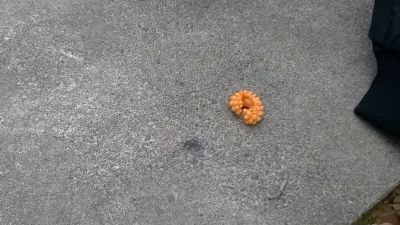eggs: (229, 91, 264, 126)
